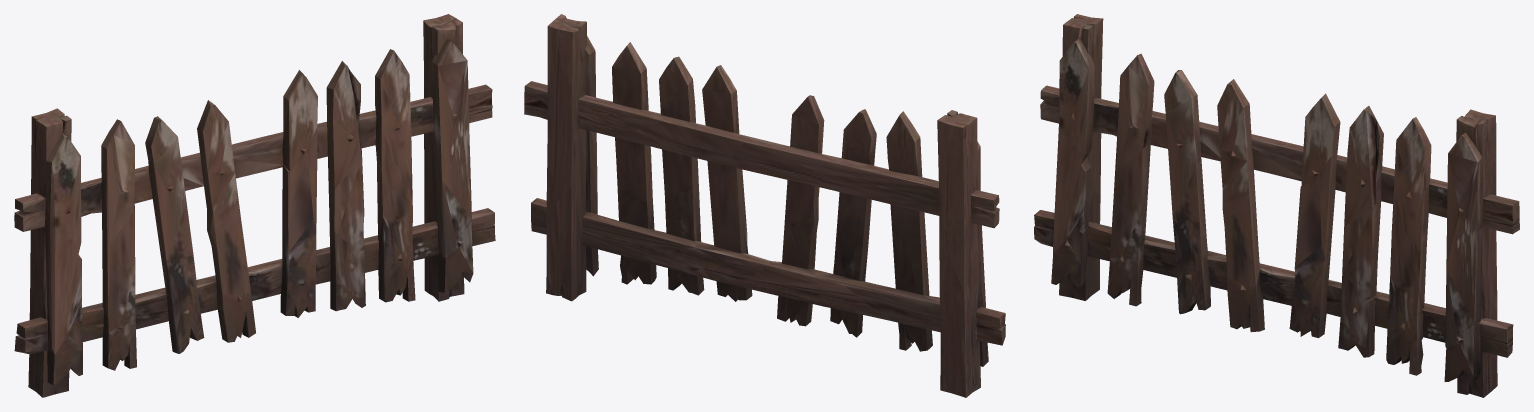
File: bg_field_fence_1_lod0.glb
3 views of the same model, side by side, from view 1: azimuth 30°, elevation 25°; view 2: azimuth 150°, elevation 25°; view 3: azimuth 330°, elevation 25° (orthographic).
Parts seen in each view (by area): view 1: body; view 2: body; view 3: body.
Part boxes in pixels (<box>): body: <box>14,14,495,397</box>; body: <box>524,14,1005,397</box>; body: <box>1034,14,1519,397</box>.
Size of the model in its own units: 2.36 by 1.3 by 0.2182.
1 material, 1 textured.
